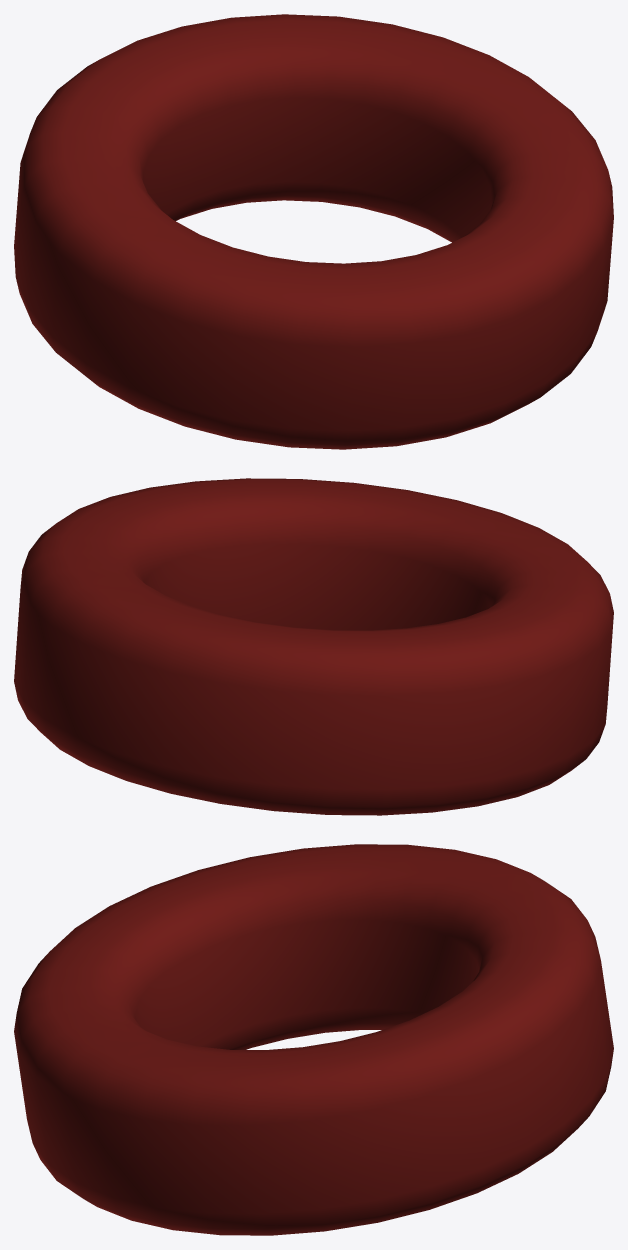
File: Enemy_PlainMouth.fbx
3 renders of one model, top to bottom at view 1: azimuth 30°, elevation 25°; view 2: azimuth 150°, elevation 25°; view 3: azimuth 270°, elevation 25°, orthographic.
Visible parts, largest first — view 1: Cylinder.027; view 2: Cylinder.027; view 3: Cylinder.027.
Boxes of the visible parts, x1,y1,x2,y2 form: Cylinder.027: (14,14,613,449); Cylinder.027: (14,478,613,815); Cylinder.027: (14,844,613,1235).
Size of the model in its own units: 40.61 by 16.68 by 41.14.
